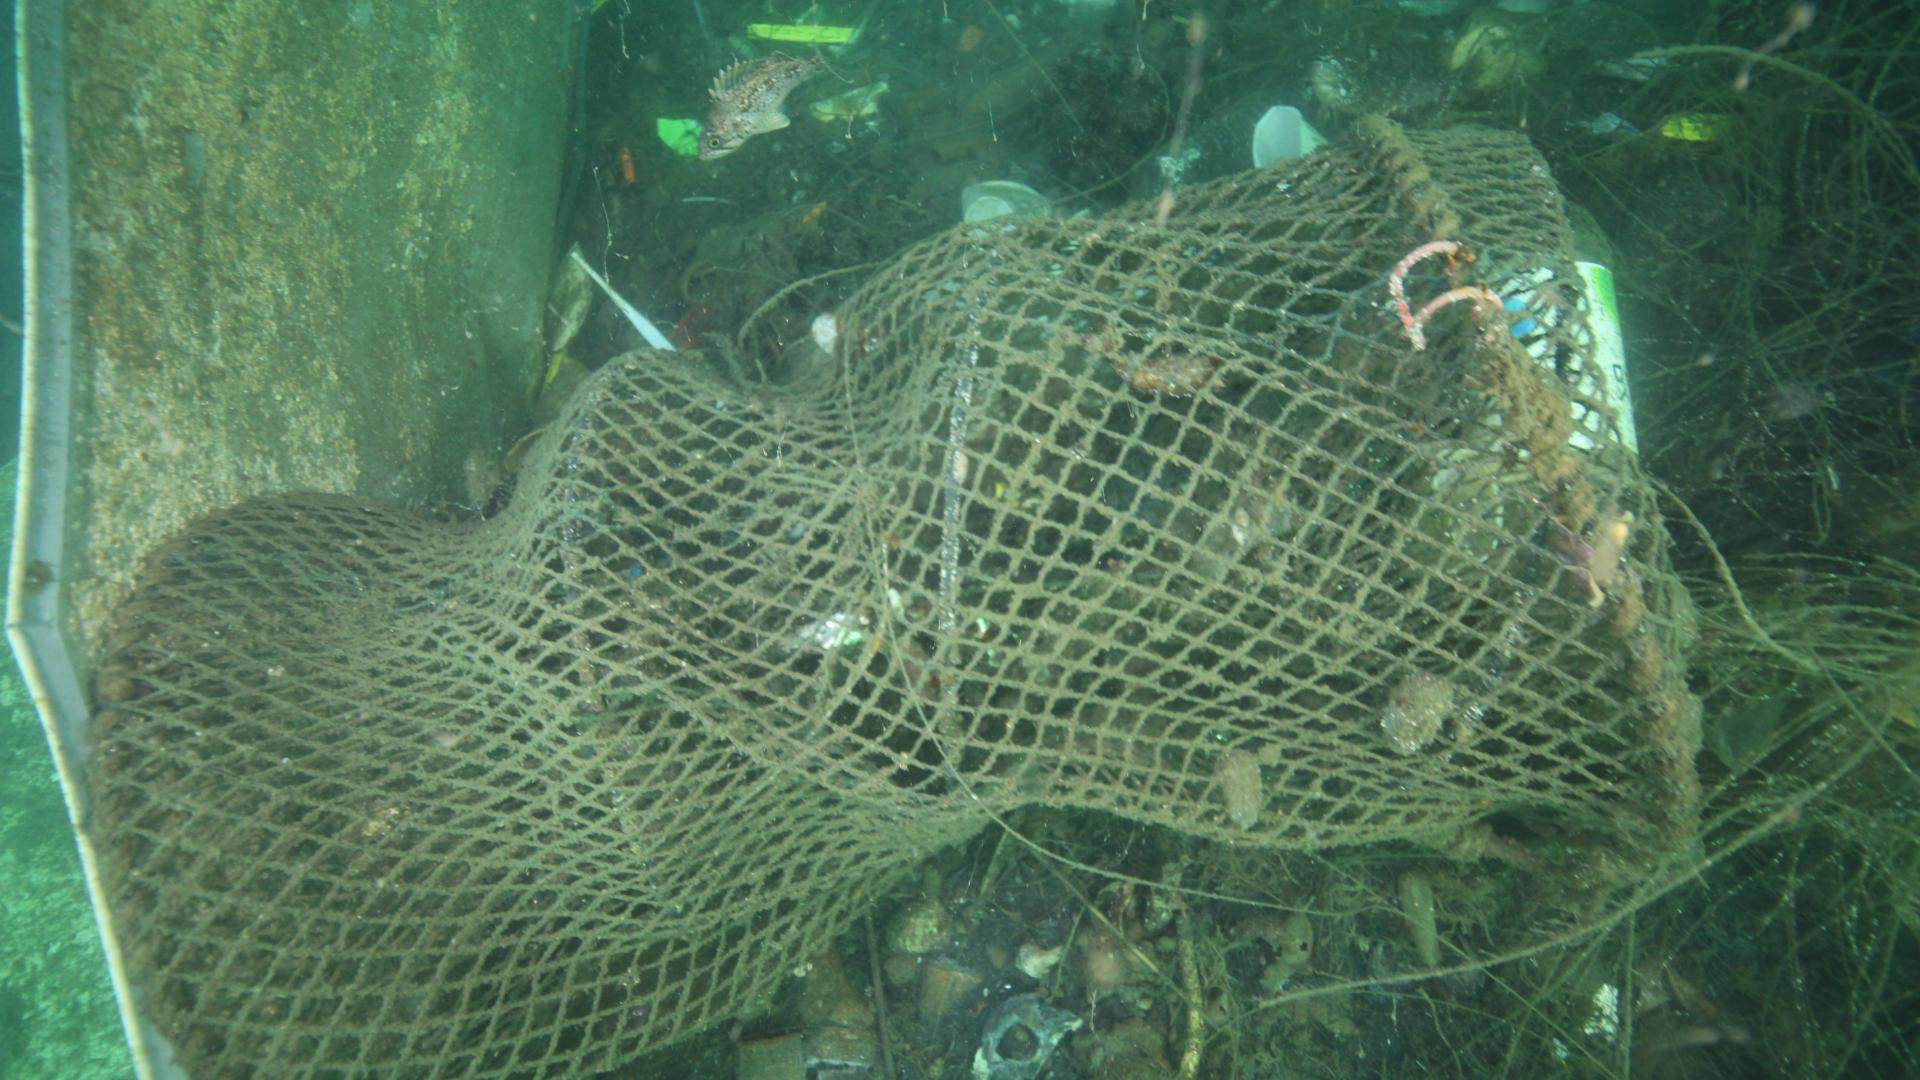spring fish trap: (88, 102, 1692, 1080)
